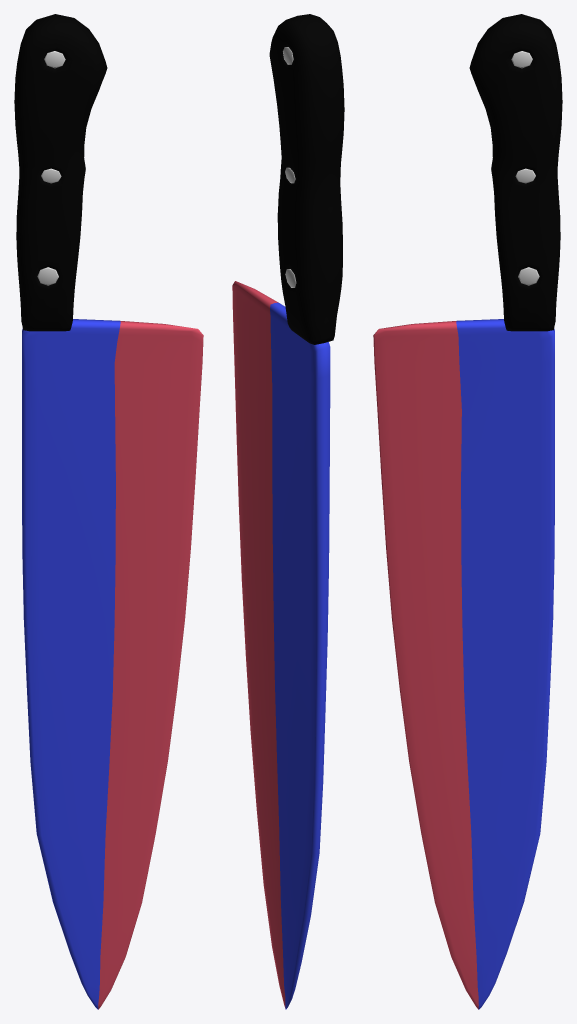
The model's file is knife-prop.fbx.
3 renders of one model, left to right at view 1: azimuth 90°, elevation 25°; view 2: azimuth 210°, elevation 25°; view 3: azimuth 270°, elevation 25°, orthographic.
Visible parts, largest first — view 1: Knife_Vert.002; view 2: Knife_Vert.002; view 3: Knife_Vert.002.
Boxes of the visible parts, x1,y1,x2,y2 form: Knife_Vert.002: (14, 14, 203, 1009); Knife_Vert.002: (232, 14, 344, 1009); Knife_Vert.002: (373, 14, 562, 1009).
Bounding box in the file's own units: 0.2793 × 6.03 × 1.04.
